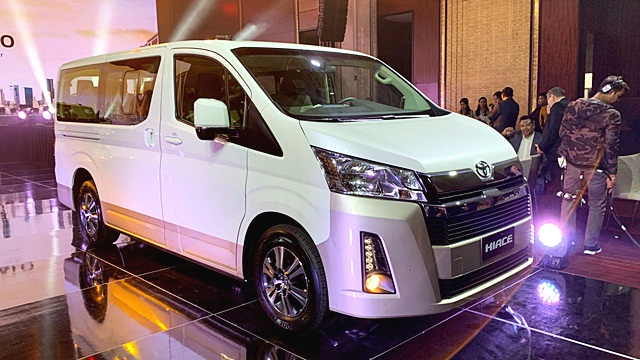van: (50, 38, 537, 340)
